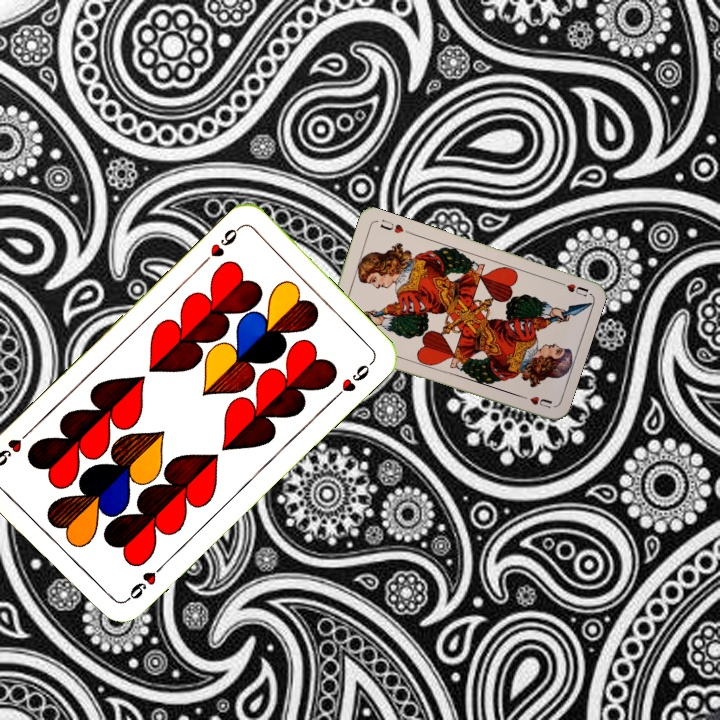H9: (121, 559, 167, 605), (198, 222, 244, 267)
HU: (552, 277, 591, 299)
